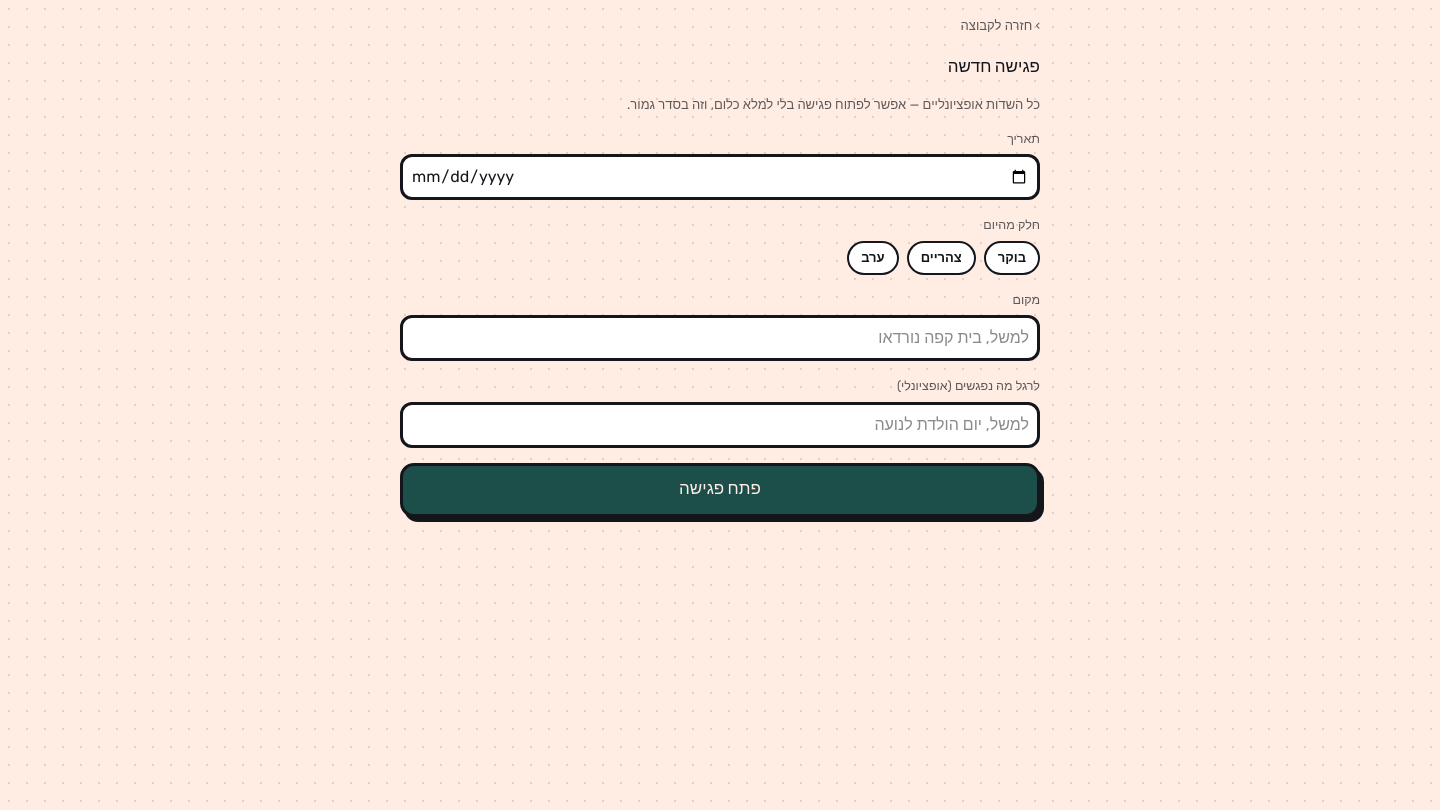
shows a friendly message and no redirect when the group is at its cap
The image size is (1440, 810).
Click the button "פתח פגישה". click: (720,490)
box: x1=400 y1=463 x2=1040 y2=516
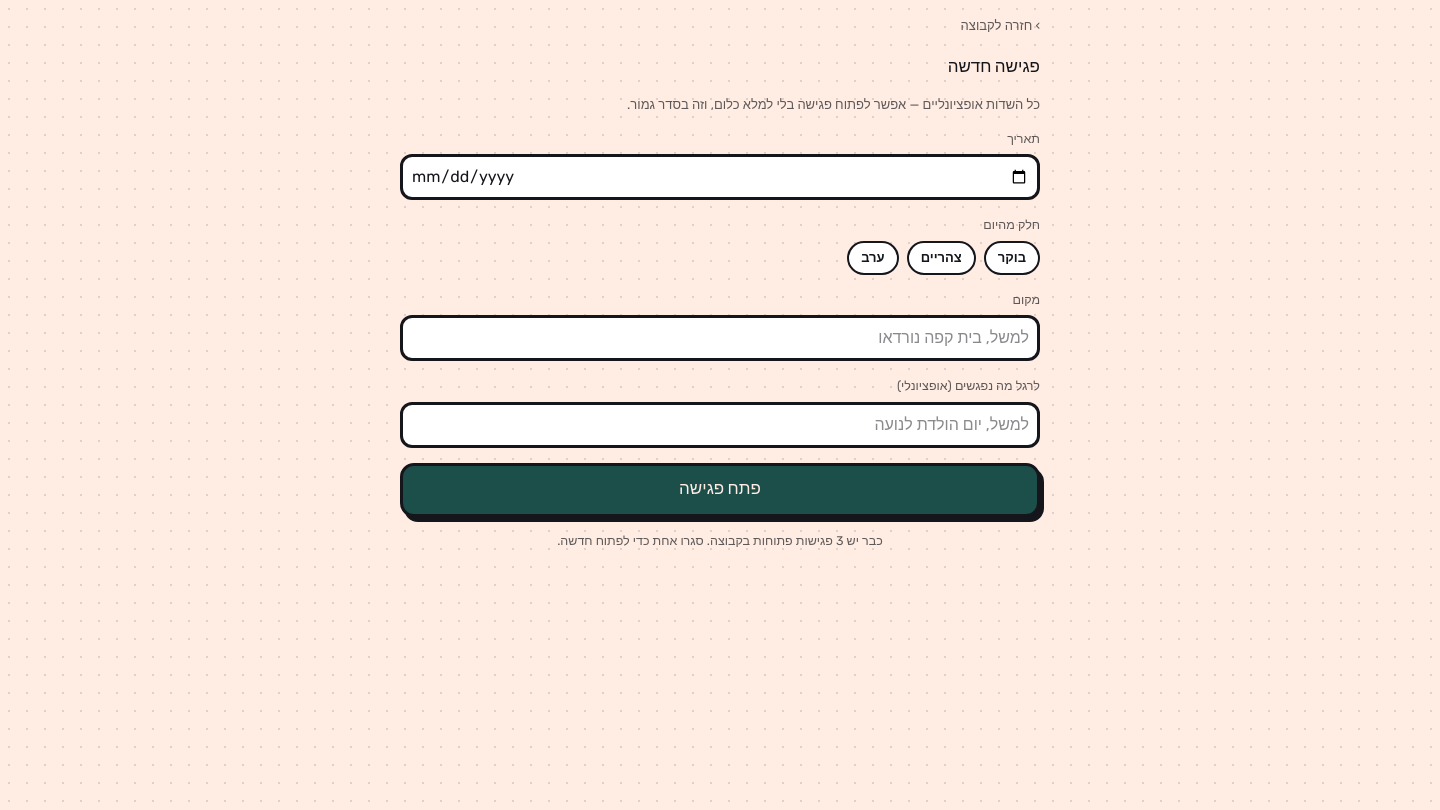
Expected: the text "כבר יש 3 פגישות פתוחות בקבוצה. סגרו אחת כדי לפתוח חדשה." is shown, x1=557 y1=532 x2=883 y2=548
